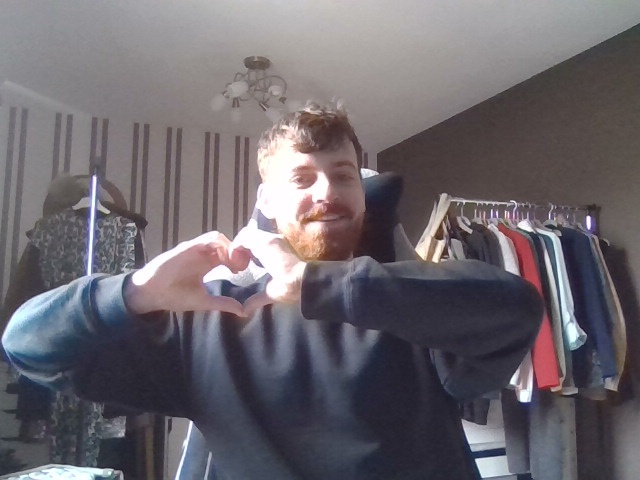Love: (131, 209, 311, 337)
